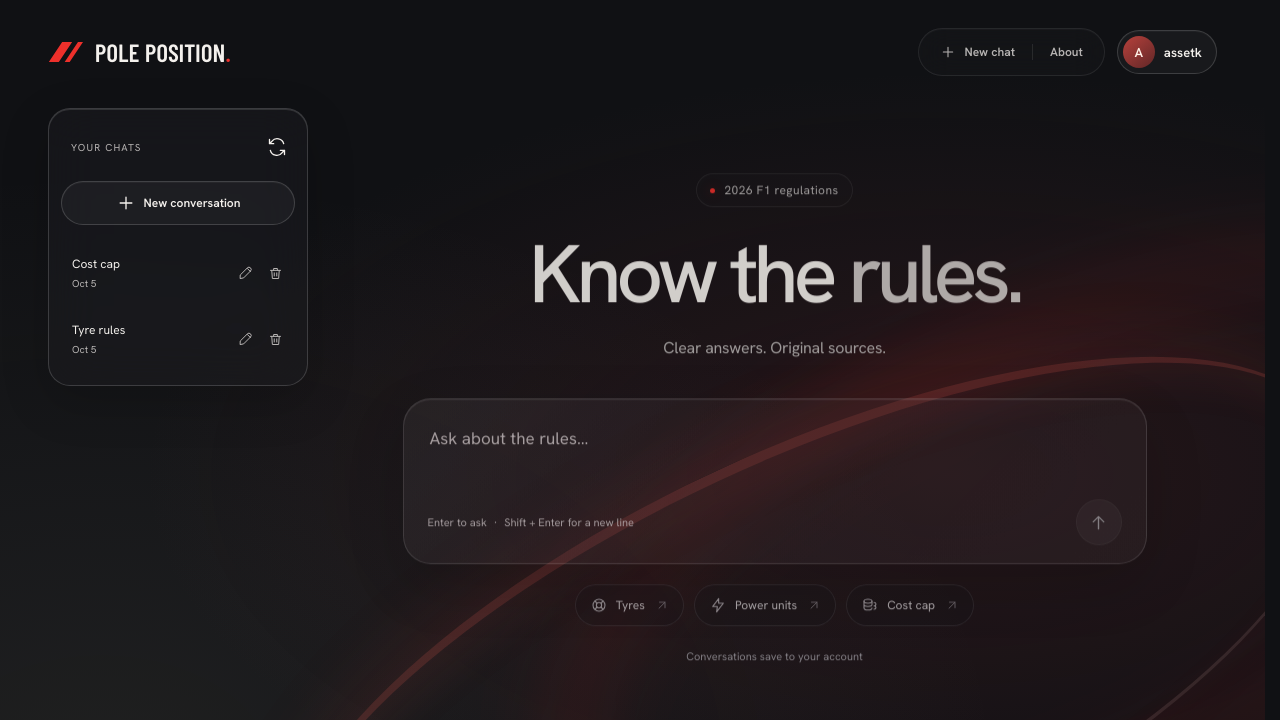
Test: saved conversation interface › delete cancellation makes no mutation; confirming deletion clears the selected chat
The width and height of the screenshot is (1280, 720).
Click the button with aria-label "Open conversation: Tyre rules": x=146, y=339 x1=62 y1=310 x2=230 y2=368
(page scrolled)
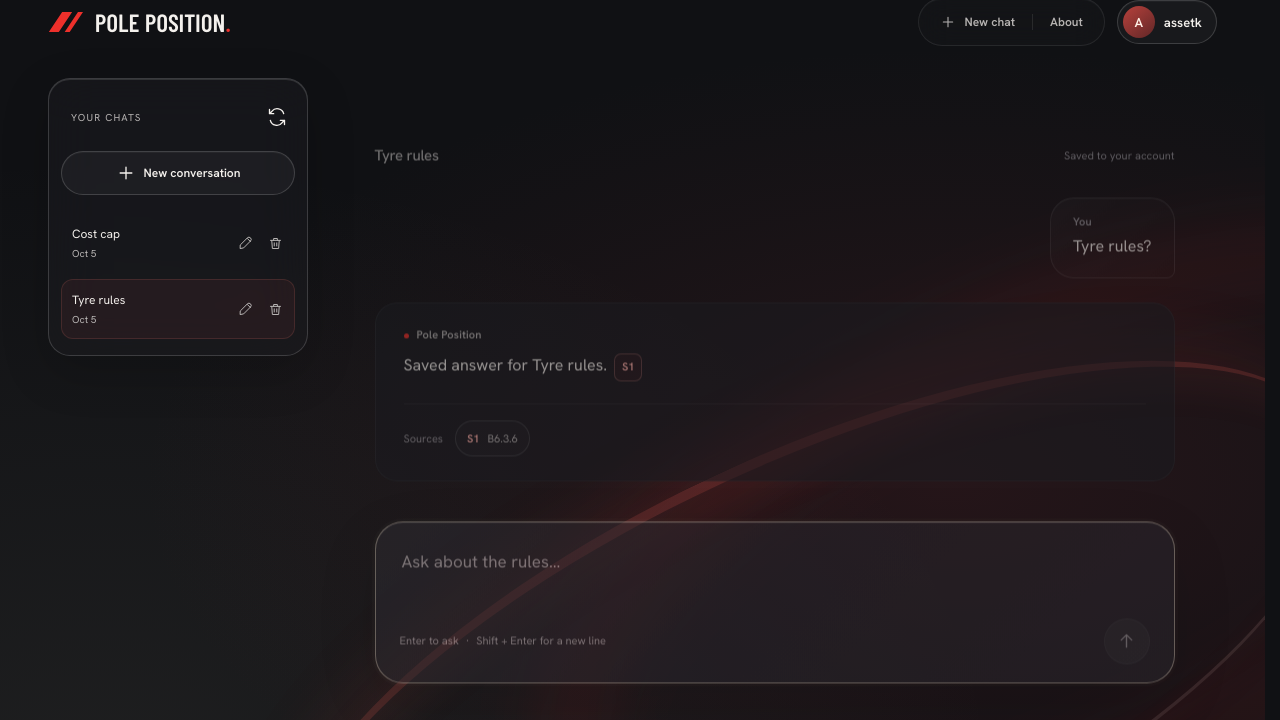
Check: the heading "Tyre rules" is shown, box x1=374 y1=143 x2=439 y2=163
Click the button named "Delete conversation: Tyre rules": x=275, y=309 x1=260 y1=291 x2=290 y2=327
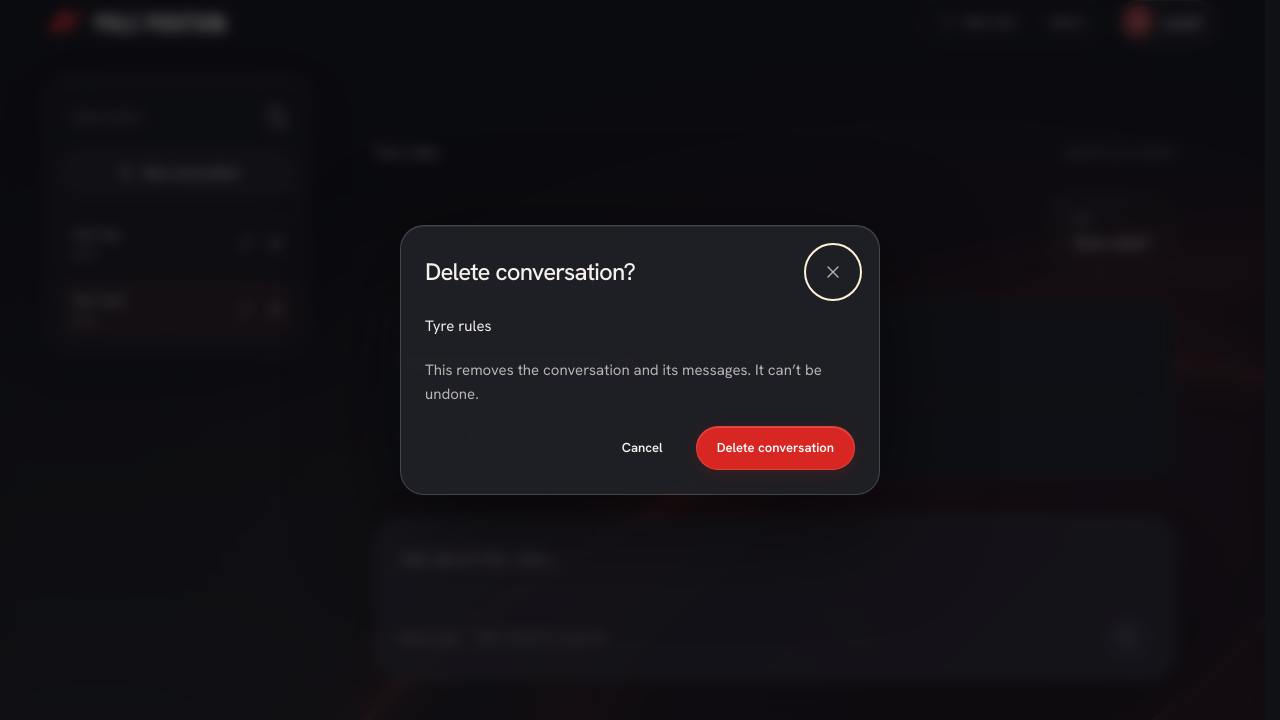
Click the button "Cancel": x=642, y=448 x1=601 y1=426 x2=684 y2=470
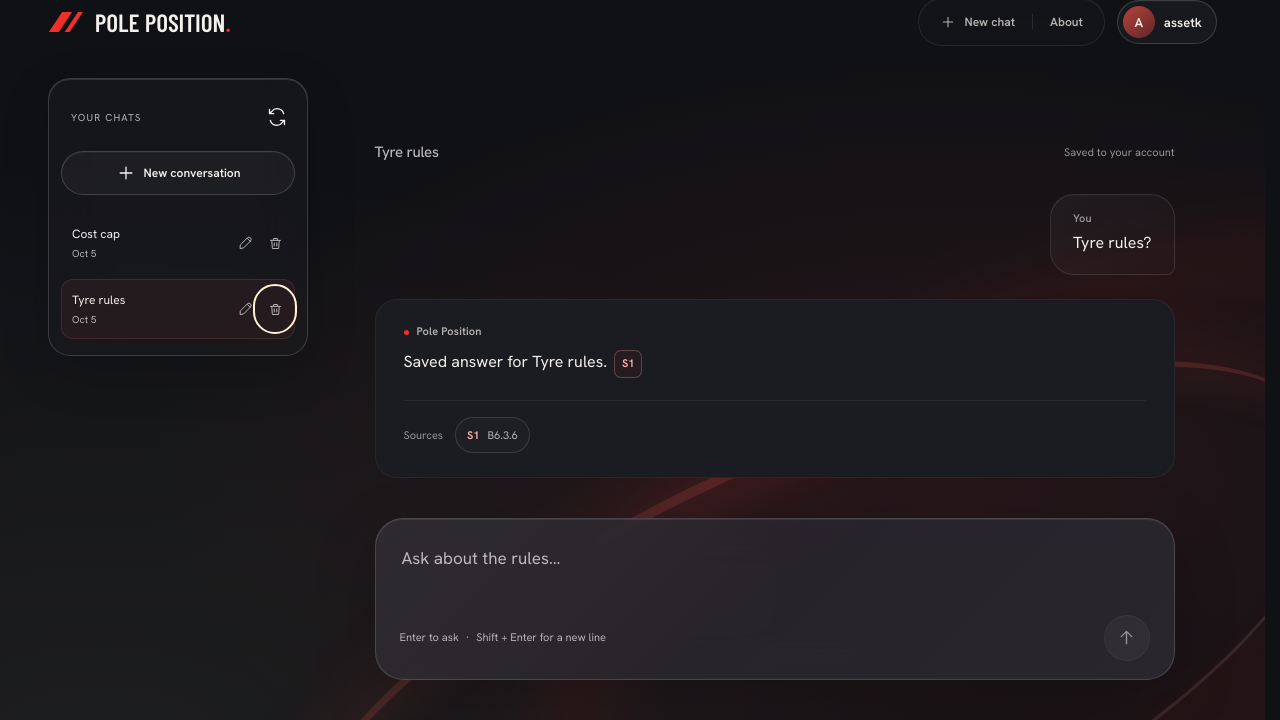
Click the button named "Delete conversation: Tyre rules": x=275, y=309 x1=260 y1=291 x2=290 y2=327
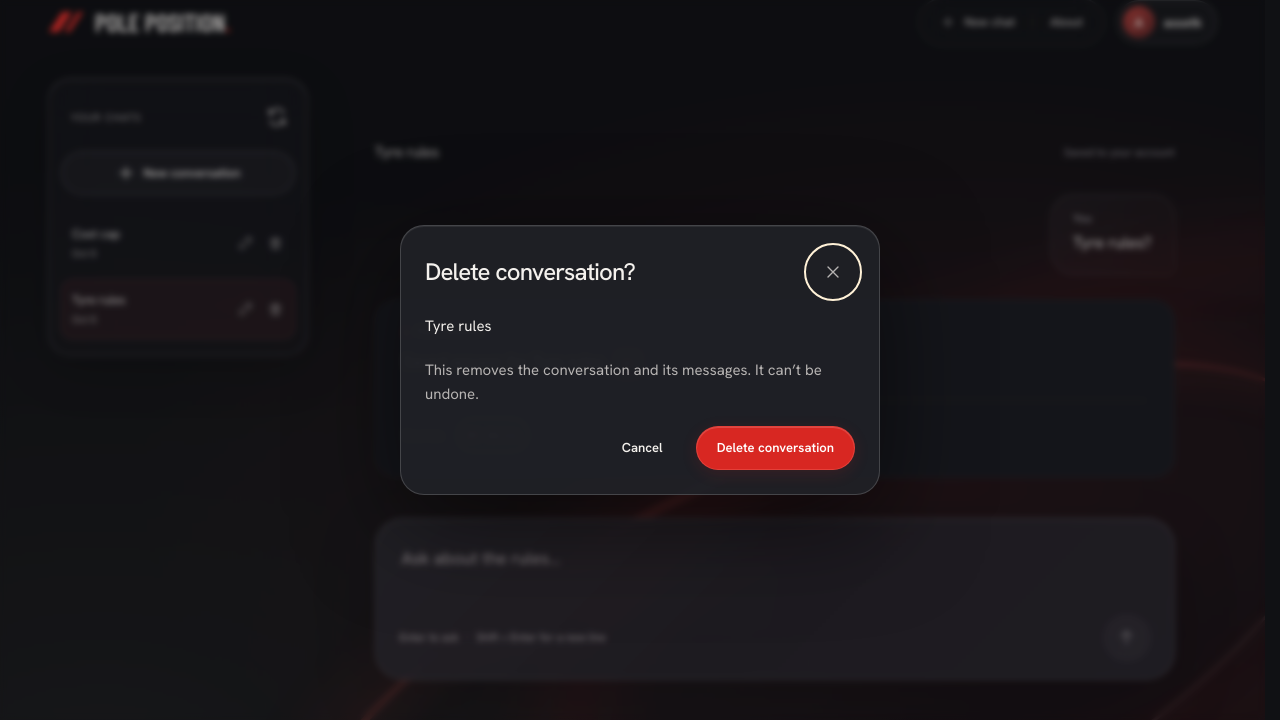
Click the button "Delete conversation": x=775, y=448 x1=696 y1=426 x2=855 y2=470
(page scrolled)
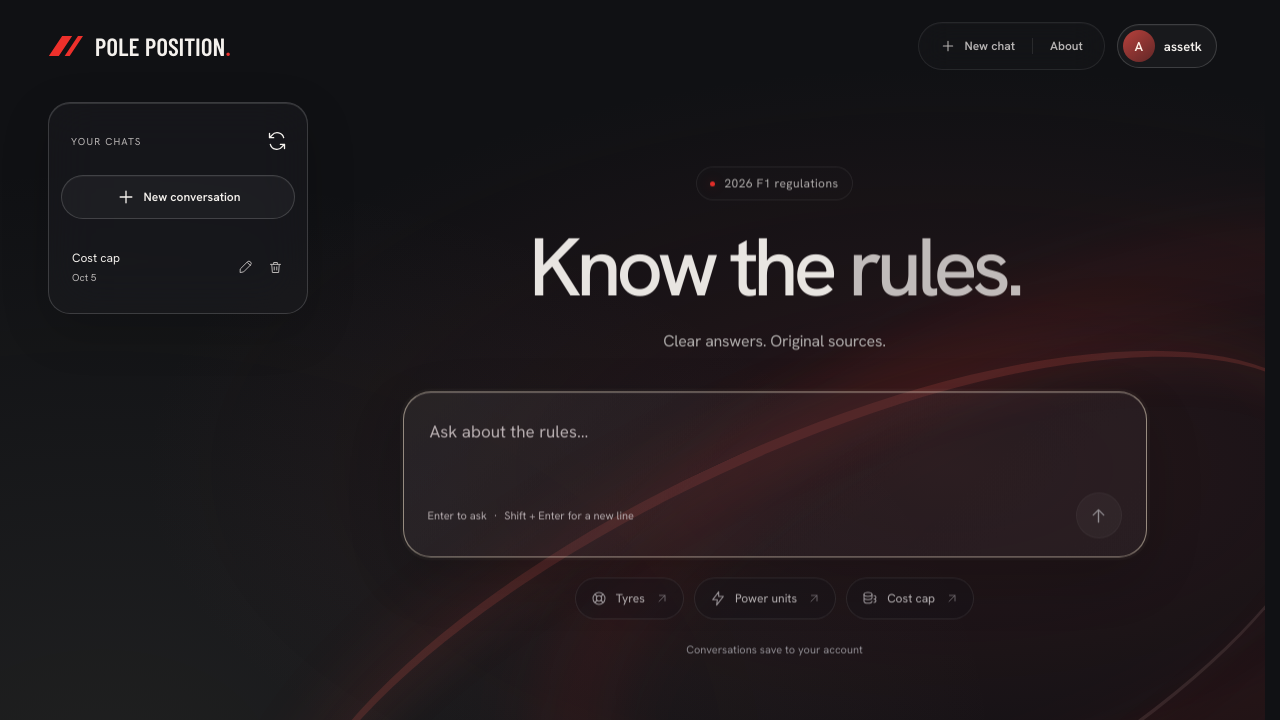
Check: the heading "Know the rules." is shown, box x1=529 y1=213 x2=1020 y2=320
